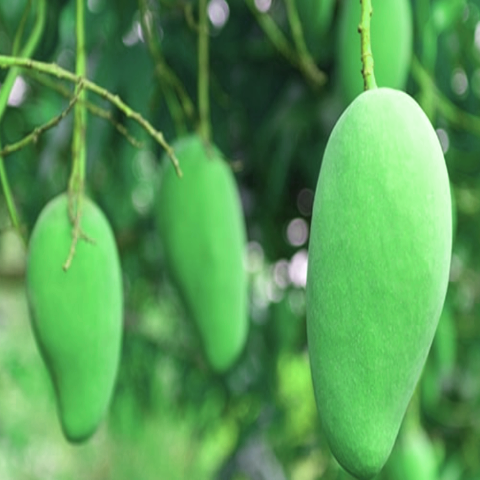mango: (283, 76, 478, 480), (142, 126, 261, 390), (14, 185, 127, 450)
